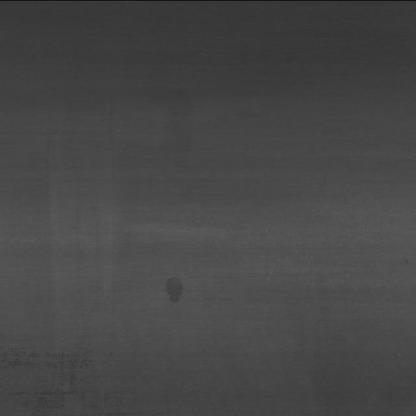oil_spot: (160, 269, 193, 302)
